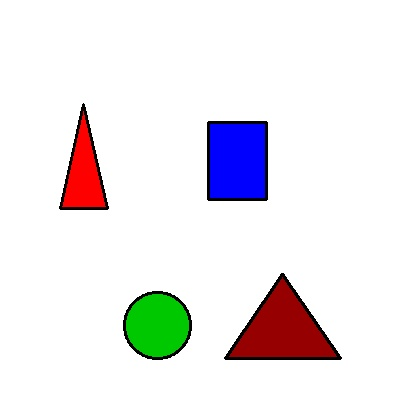circle: (111, 292, 203, 359)
rectangle: (208, 122, 266, 199)
triangle: (225, 274, 340, 358), (60, 104, 107, 208)
